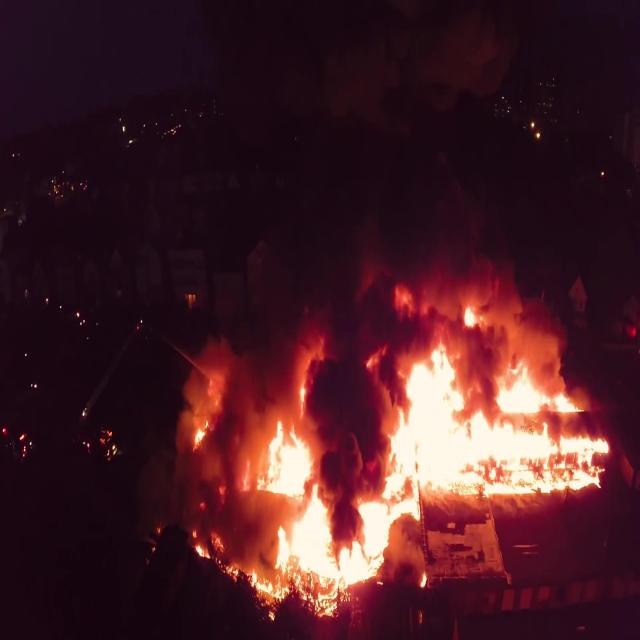fire: (401, 369, 573, 509), (253, 424, 312, 498), (282, 516, 330, 580)
